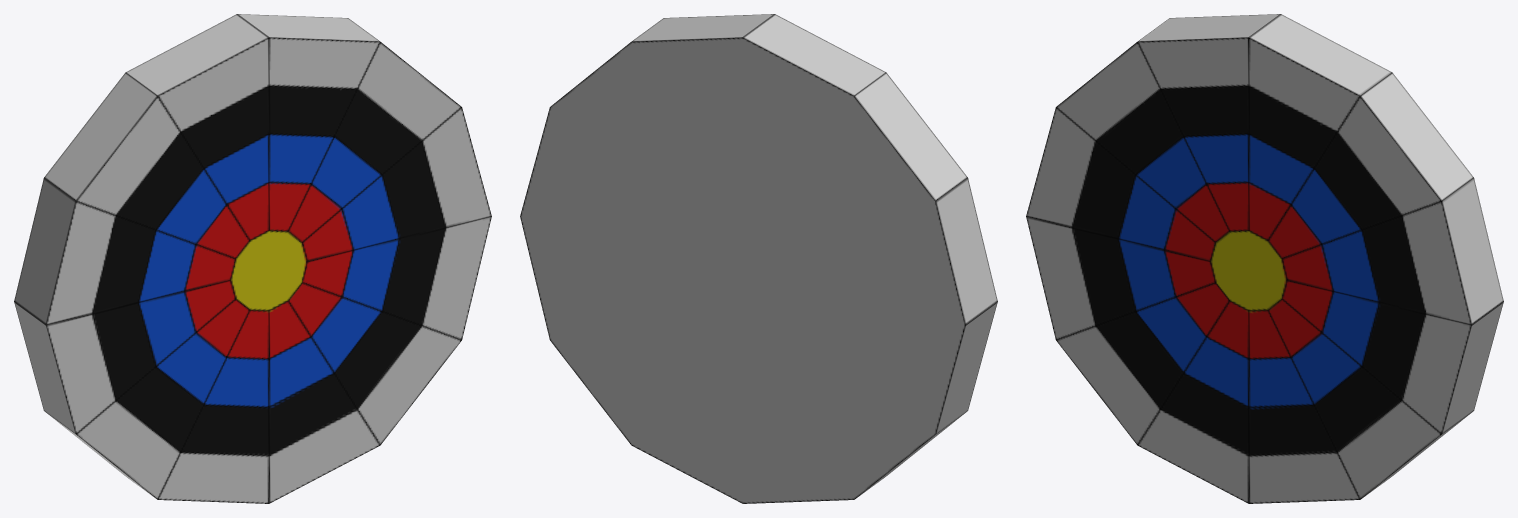
File: circularTarget_Hitboxes.fbx
The picture shows the model from 3 angles, left to right: view 1: azimuth 30°, elevation 25°; view 2: azimuth 150°, elevation 25°; view 3: azimuth 330°, elevation 25°; orthographic projection.
Parts seen in each view (by area): view 1: CircularTarget; view 2: CircularTarget; view 3: CircularTarget.
Boxes of the visible parts, <box> form: CircularTarget: <box>14,14,491,503</box>; CircularTarget: <box>520,14,997,503</box>; CircularTarget: <box>1026,14,1503,503</box>.
Size of what is drawn, in the model's own units: 80 by 80 by 10.
